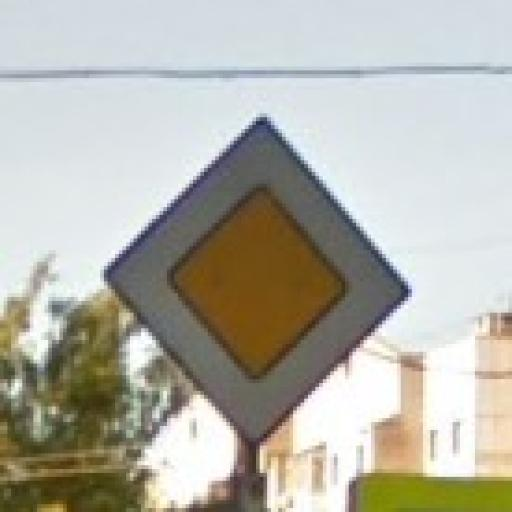traffic_sign: (105, 111, 413, 447)
